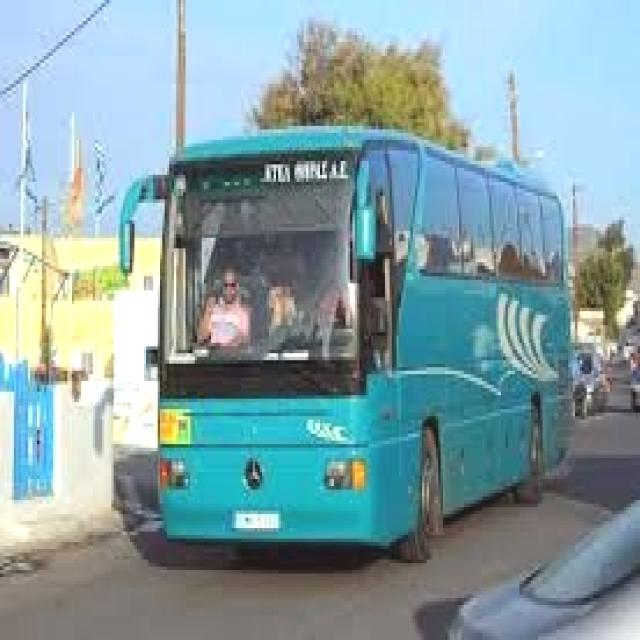bus: (111, 120, 586, 567)
